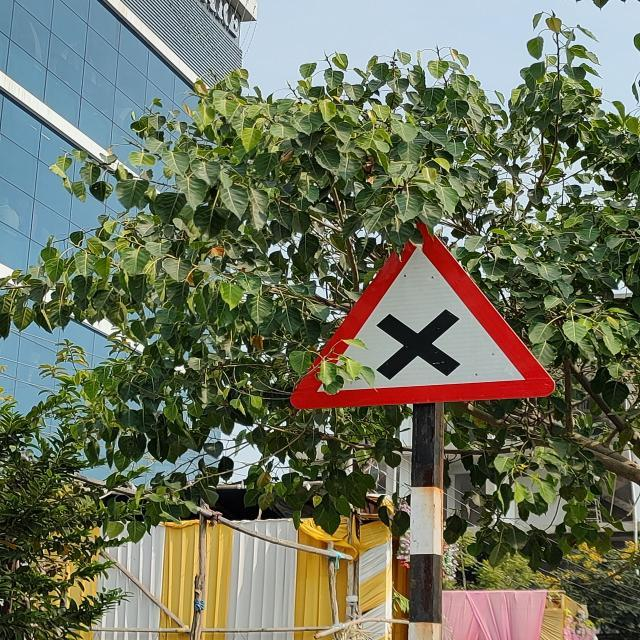cross road: (283, 234, 563, 414)
